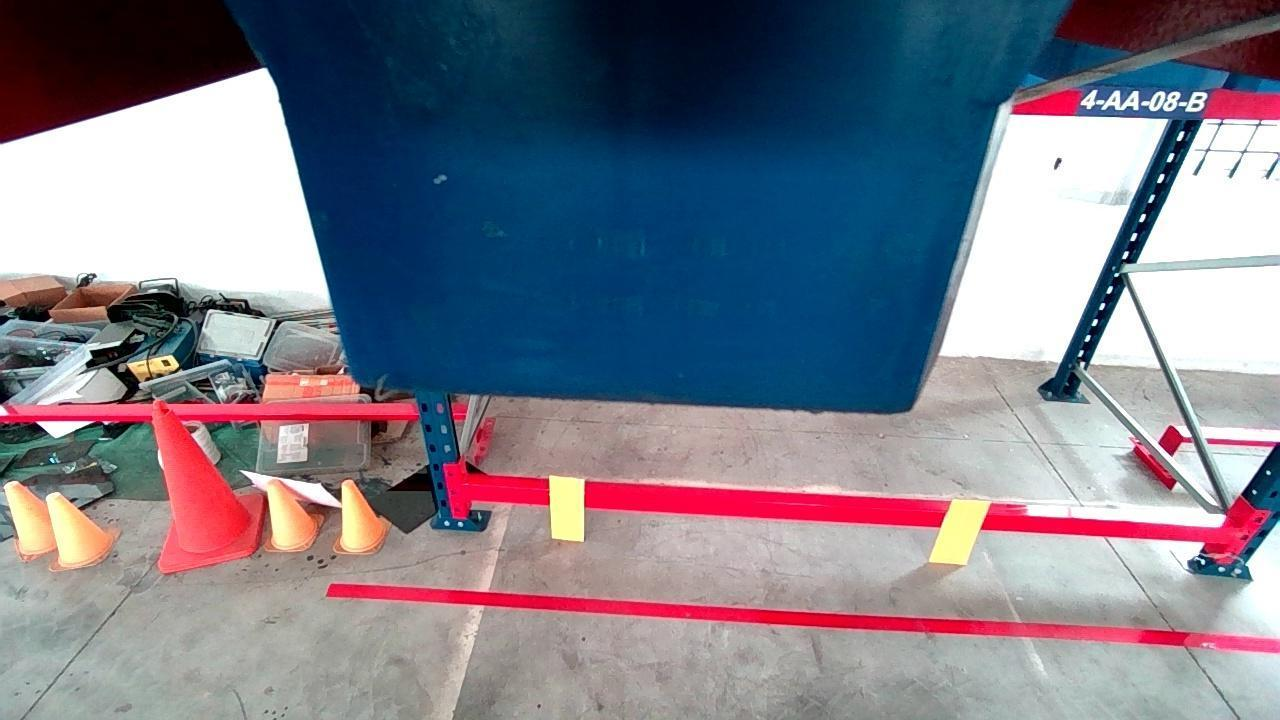h_rack: (463, 478, 1241, 542)
orange_strip: (933, 498, 988, 565), (550, 474, 584, 541)
red_line: (321, 584, 1280, 654)
